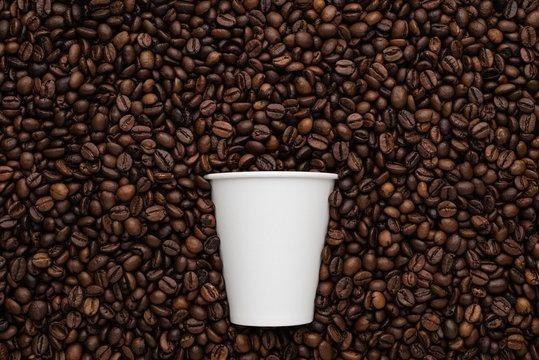cup-disposable: (196, 163, 347, 333)
